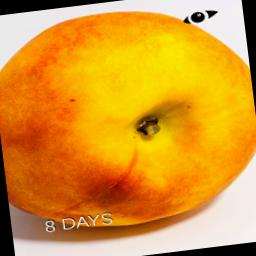Peach Unripe: (0, 0, 256, 242)
